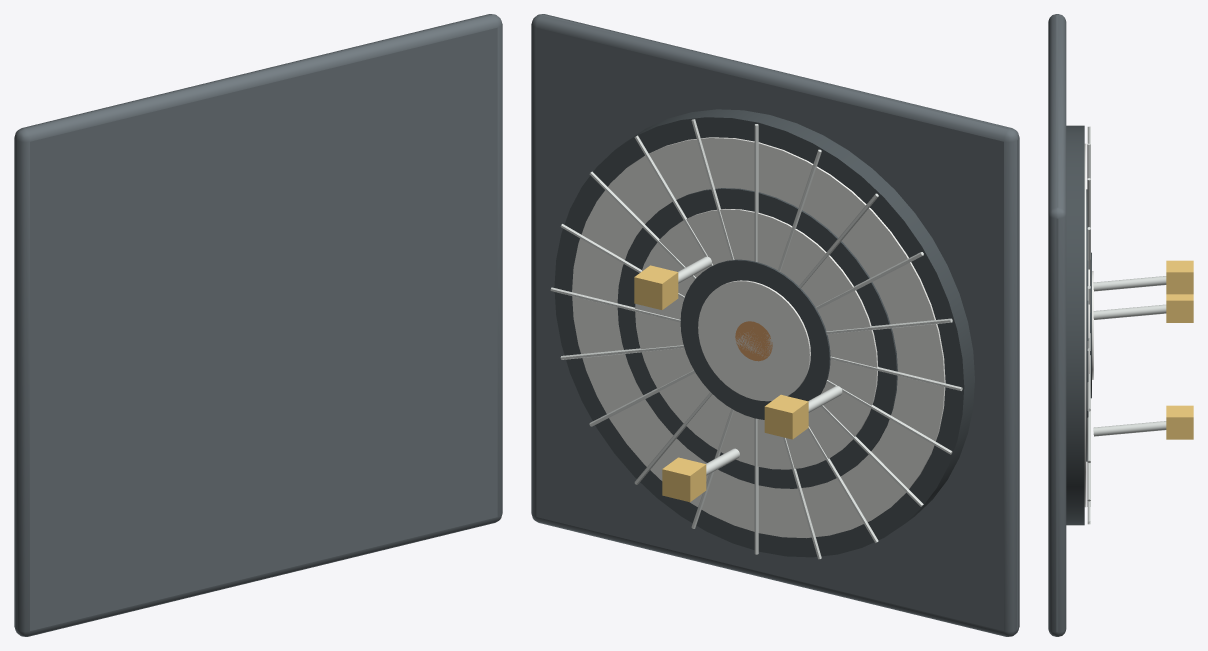
Rendered from dartboard.glb.
The picture shows the model from 3 angles, left to right: view 1: azimuth 30°, elevation 25°; view 2: azimuth 150°, elevation 25°; view 3: azimuth 270°, elevation 25°; orthographic projection. The views are drawn at different scales.
Visible parts, largest first — view 1: plate_graphite; view 2: plate_graphite, ring_1_white_painted, ring_0_black_rubber, ring_3_white_painted, ring_2_black_rubber, wires_satin_steel, ring_5_white_painted, ring_4_black_rubber, flights_amber, darts_satin_steel, bull_orange; view 3: plate_graphite, ring_0_black_rubber, flights_amber, darts_satin_steel, wires_satin_steel, ring_1_white_painted, ring_2_black_rubber, ring_4_black_rubber.
Boxes of the visible parts, left/top/right/bottom form: plate_graphite: left=14, top=14, right=502, bottom=636; plate_graphite: left=531, top=14, right=1019, bottom=636; ring_1_white_painted: left=572, top=137, right=945, bottom=538; ring_0_black_rubber: left=554, top=109, right=974, bottom=557; ring_3_white_painted: left=635, top=209, right=878, bottom=469; ring_2_black_rubber: left=617, top=188, right=897, bottom=488; wires_satin_steel: left=550, top=119, right=962, bottom=559; ring_5_white_painted: left=698, top=280, right=810, bottom=401; ring_4_black_rubber: left=680, top=259, right=830, bottom=419; flights_amber: left=634, top=265, right=808, bottom=502; darts_satin_steel: left=678, top=256, right=842, bottom=475; bull_orange: left=735, top=321, right=772, bottom=361; plate_graphite: left=1048, top=14, right=1066, bottom=636; ring_0_black_rubber: left=1066, top=125, right=1084, bottom=525; flights_amber: left=1166, top=260, right=1193, bottom=439; darts_satin_steel: left=1093, top=276, right=1166, bottom=436; wires_satin_steel: left=1087, top=126, right=1090, bottom=524; ring_1_white_painted: left=1084, top=143, right=1086, bottom=507; ring_2_black_rubber: left=1086, top=189, right=1088, bottom=461; ring_4_black_rubber: left=1090, top=252, right=1091, bottom=398.
Bounding box in the file's own units: 0.52 × 0.52 × 0.16.
